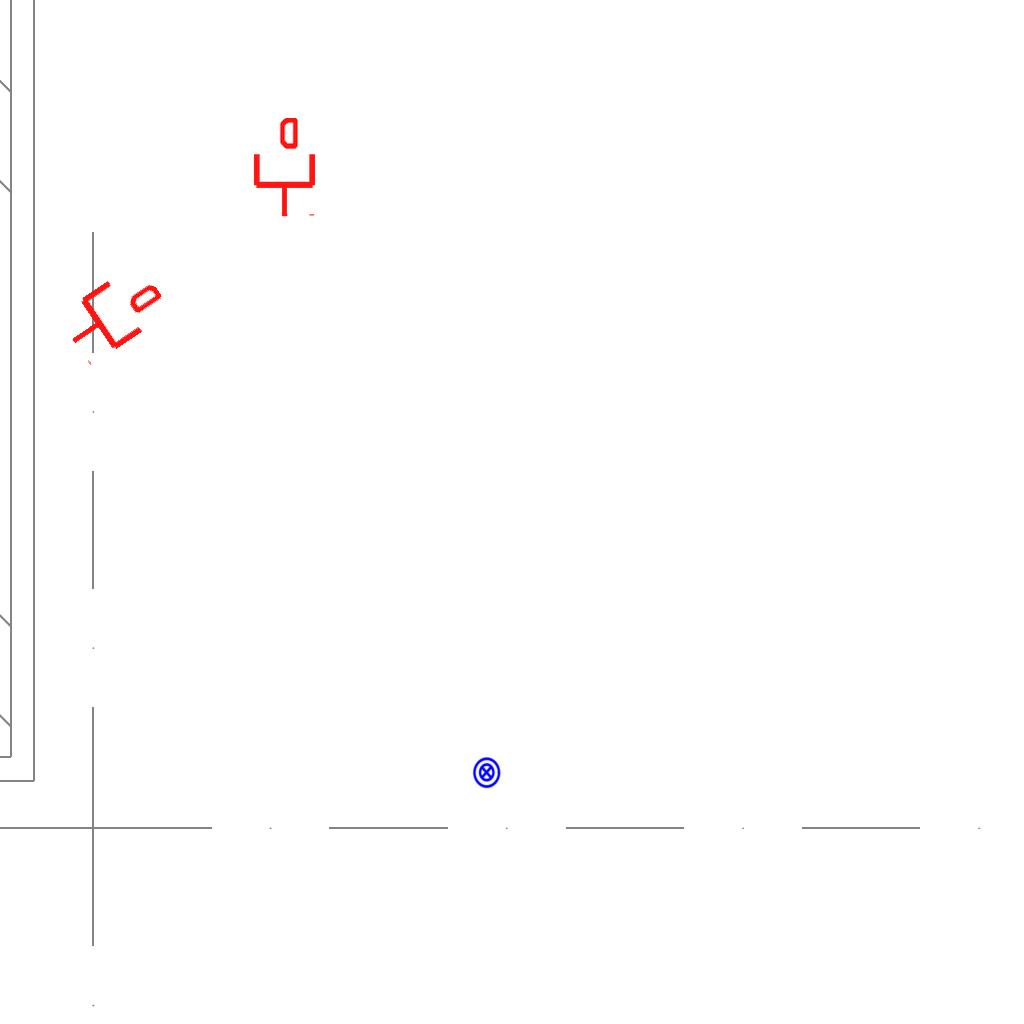Datenanschluss_einfach: (52, 257, 175, 371), (250, 118, 319, 218)
Taster_beleuchtet: (470, 756, 503, 789)
